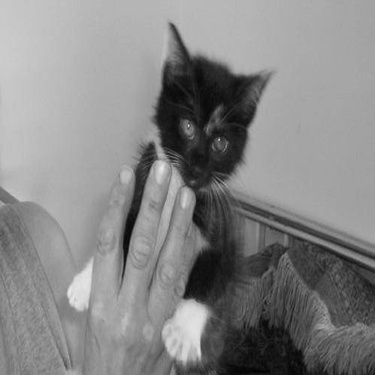cat: (60, 18, 275, 369)
